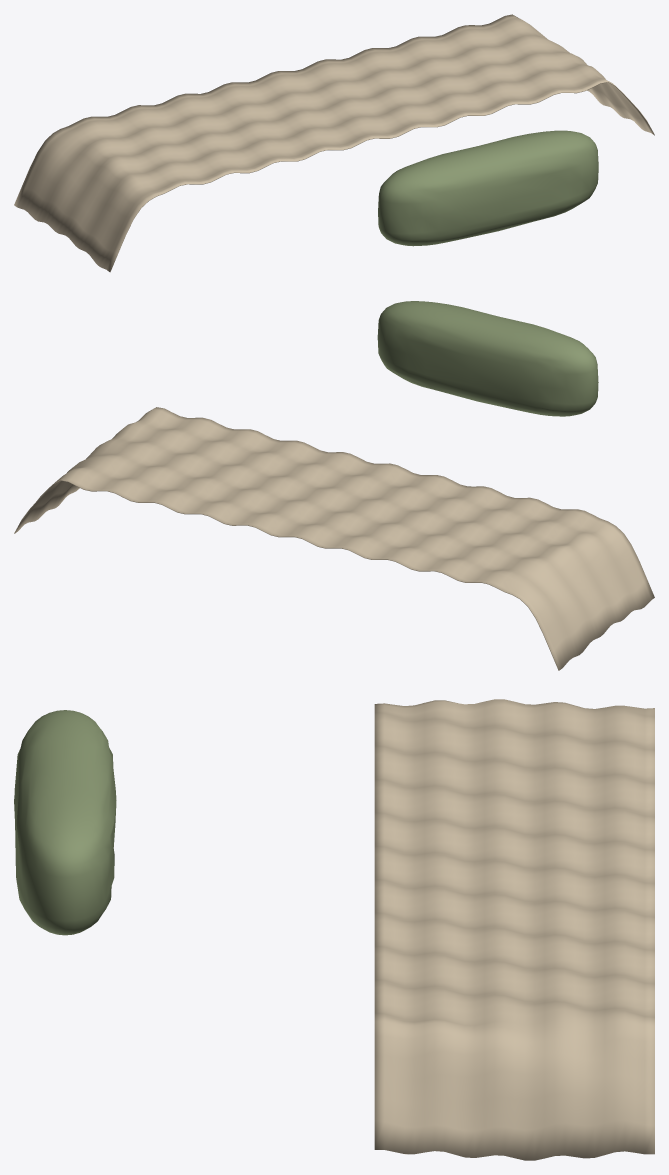
Rendered from bed-linen.glb.
3 renders of one model, top to bottom at view 1: azimuth 30°, elevation 25°; view 2: azimuth 150°, elevation 25°; view 3: azimuth 270°, elevation 25°, orthographic. The views are drawn at different scales.
Visible parts, largest first — view 1: Mood linen oat, Mood linen sage; view 2: Mood linen oat, Mood linen sage; view 3: Mood linen oat, Mood linen sage.
Boxes of the visible parts, bbox=[...] form: Mood linen oat: bbox=[14, 14, 654, 272]; Mood linen sage: bbox=[378, 130, 598, 246]; Mood linen oat: bbox=[14, 407, 654, 670]; Mood linen sage: bbox=[377, 301, 598, 416]; Mood linen oat: bbox=[374, 699, 654, 1160]; Mood linen sage: bbox=[14, 710, 116, 935].
Bounding box in the file's own units: 1.74 × 0.4201 × 1.21.
